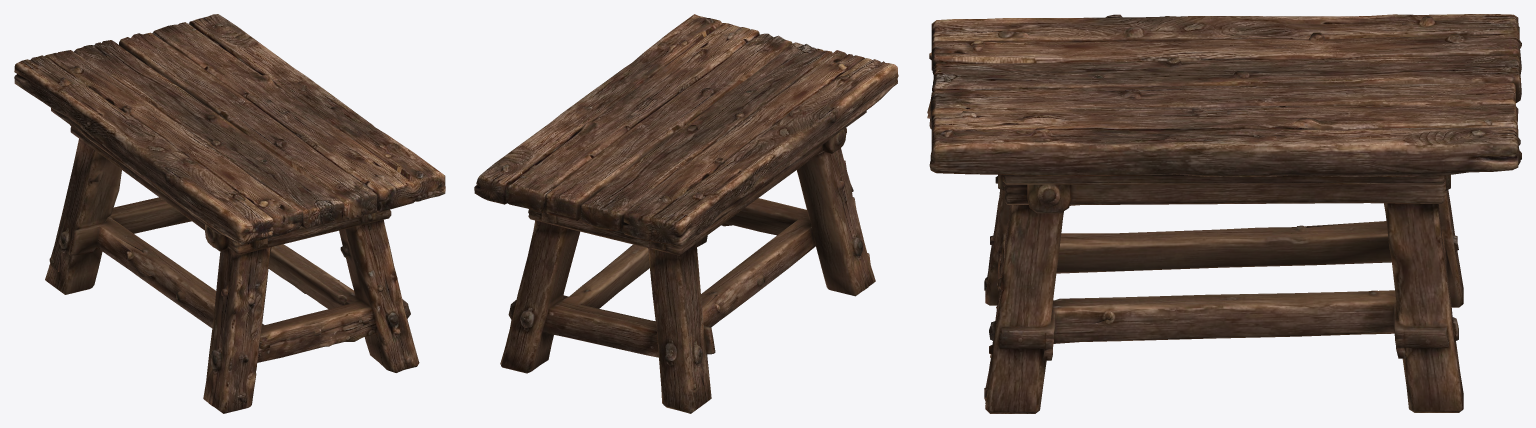
The model's file is table.glb.
The picture shows the model from 3 angles, left to right: view 1: azimuth 30°, elevation 25°; view 2: azimuth 150°, elevation 25°; view 3: azimuth 270°, elevation 25°; orthographic projection. The views are drawn at different scales.
Visible parts, largest first — view 1: tripo_node_aa953205-0b02-45be-bb04-5c21516fad66; view 2: tripo_node_aa953205-0b02-45be-bb04-5c21516fad66; view 3: tripo_node_aa953205-0b02-45be-bb04-5c21516fad66.
Boxes of the visible parts, x1,y1,x2,y2 form: tripo_node_aa953205-0b02-45be-bb04-5c21516fad66: (14,14,445,413); tripo_node_aa953205-0b02-45be-bb04-5c21516fad66: (474,14,898,413); tripo_node_aa953205-0b02-45be-bb04-5c21516fad66: (927,14,1521,413).
Bounding box in the file's own units: 0.528 × 0.5049 × 0.9811.
Materials: 1 (1 with a texture image).
